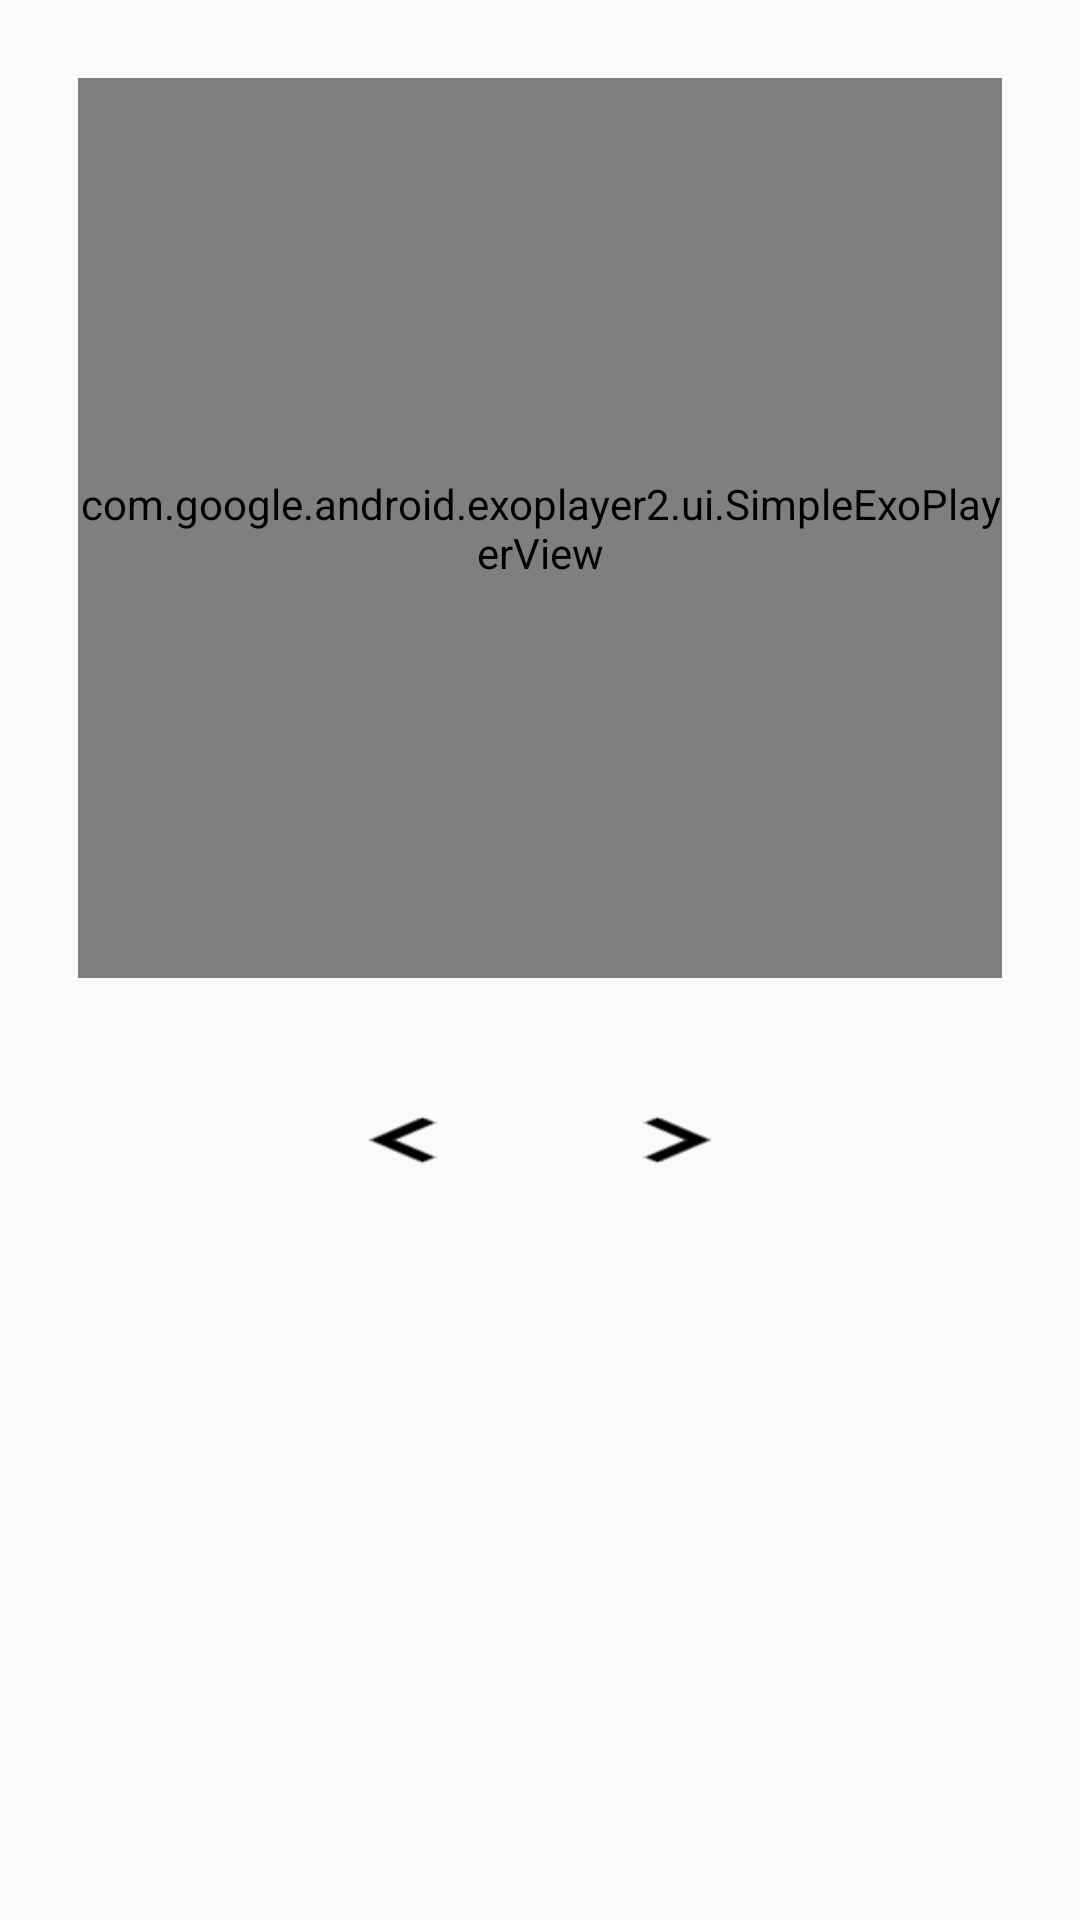

Icons on this 1080x1920 Android screen, each with the point to tap as (x,y):
chevron left: (403,1140)
chevron right: (677,1140)
